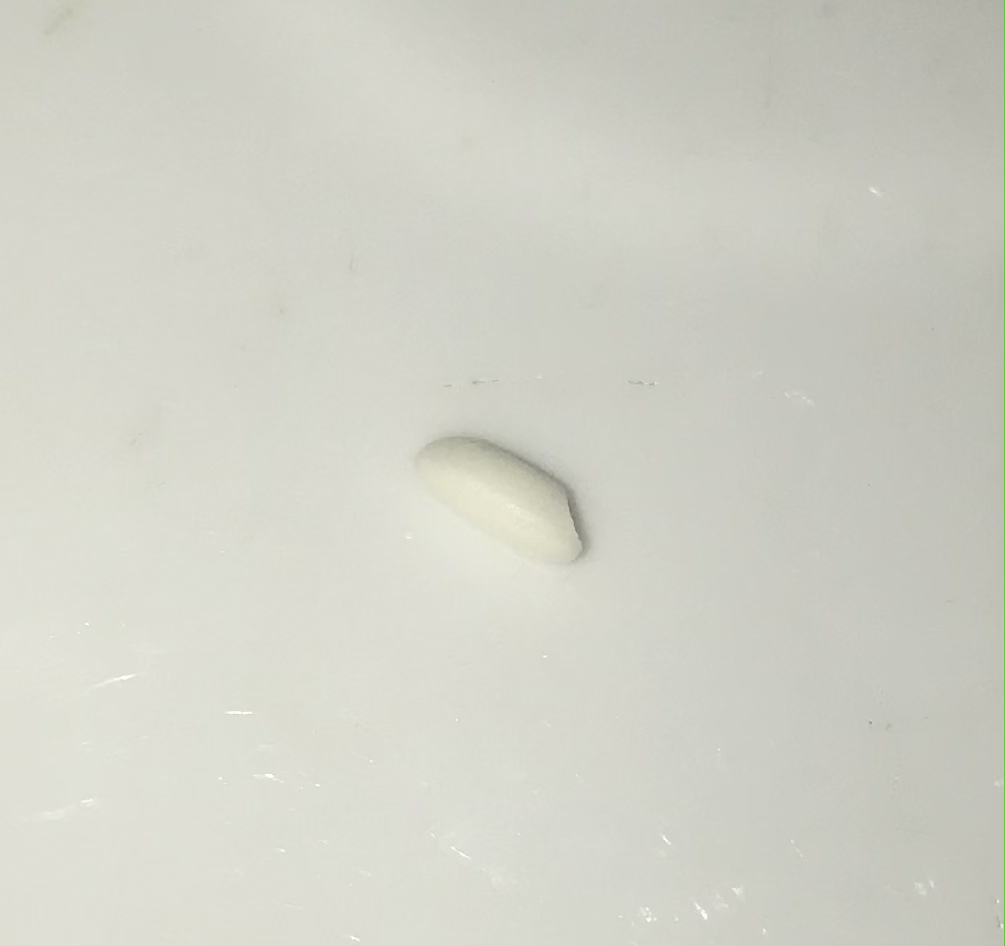Gao Nep Sap: (401, 420, 595, 576)
